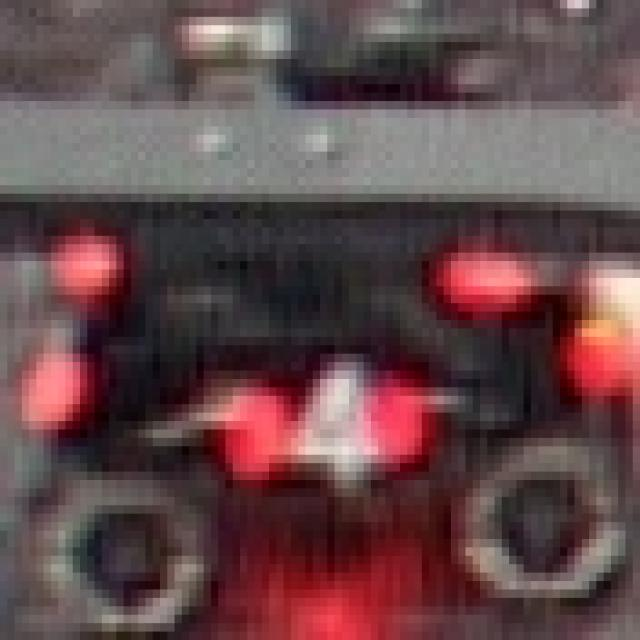R4: (225, 354, 422, 505)
